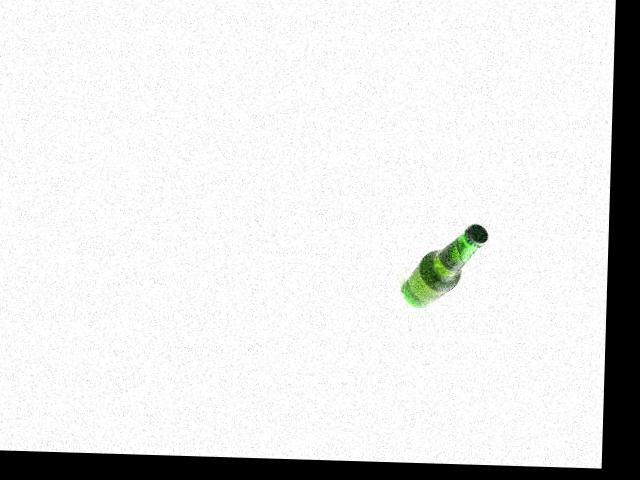beer: (401, 221, 488, 309)
